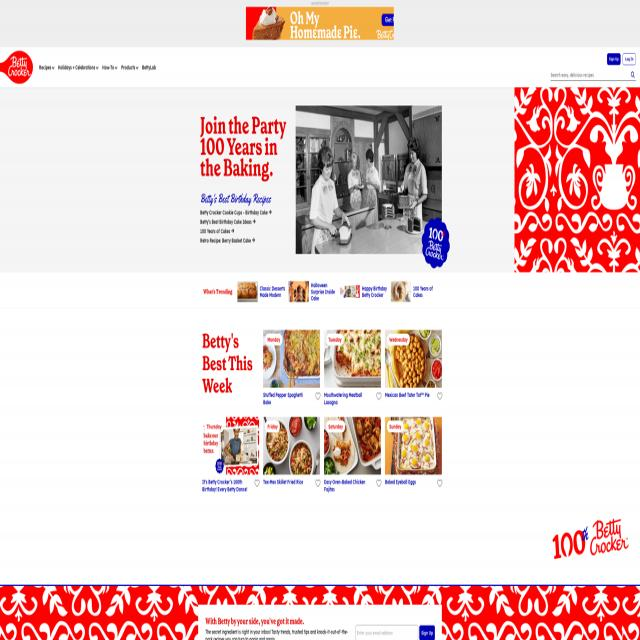button: (296, 106, 442, 254), (246, 6, 394, 40), (202, 417, 260, 475), (263, 330, 320, 388), (324, 330, 381, 388), (385, 330, 442, 388), (263, 417, 320, 475), (324, 417, 381, 475), (385, 417, 442, 475), (0, 51, 33, 84), (237, 281, 258, 302), (289, 281, 309, 302), (391, 281, 411, 302), (340, 285, 360, 299), (419, 625, 435, 640), (607, 53, 621, 65), (622, 53, 636, 65), (381, 14, 394, 26), (437, 391, 443, 401), (376, 391, 382, 401), (437, 478, 443, 488), (376, 478, 382, 488), (315, 392, 321, 401), (254, 479, 260, 488), (315, 479, 321, 488), (630, 70, 636, 79)
field: (550, 69, 636, 80), (356, 625, 418, 640)
